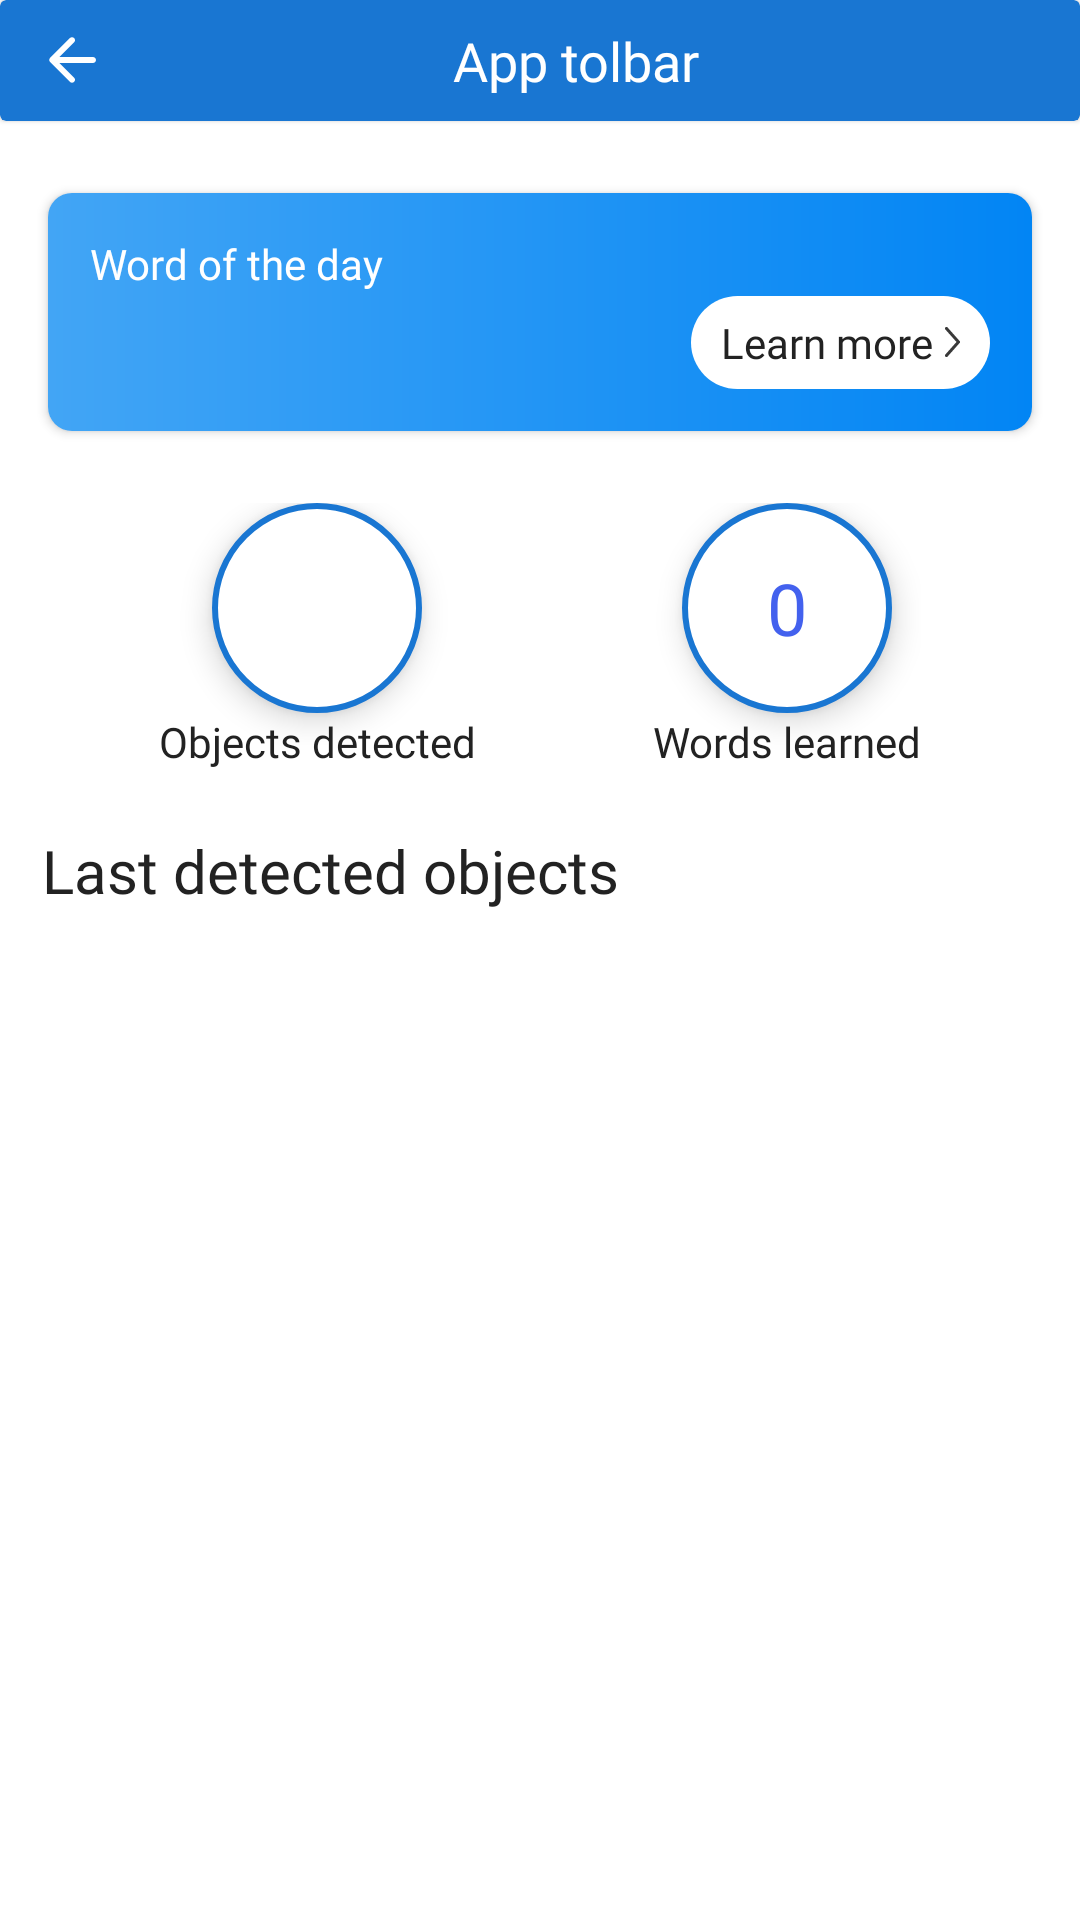

Point at icon controls on the screen. Image size 1080 × 1920, points as (x,y).
back: (72,60)
